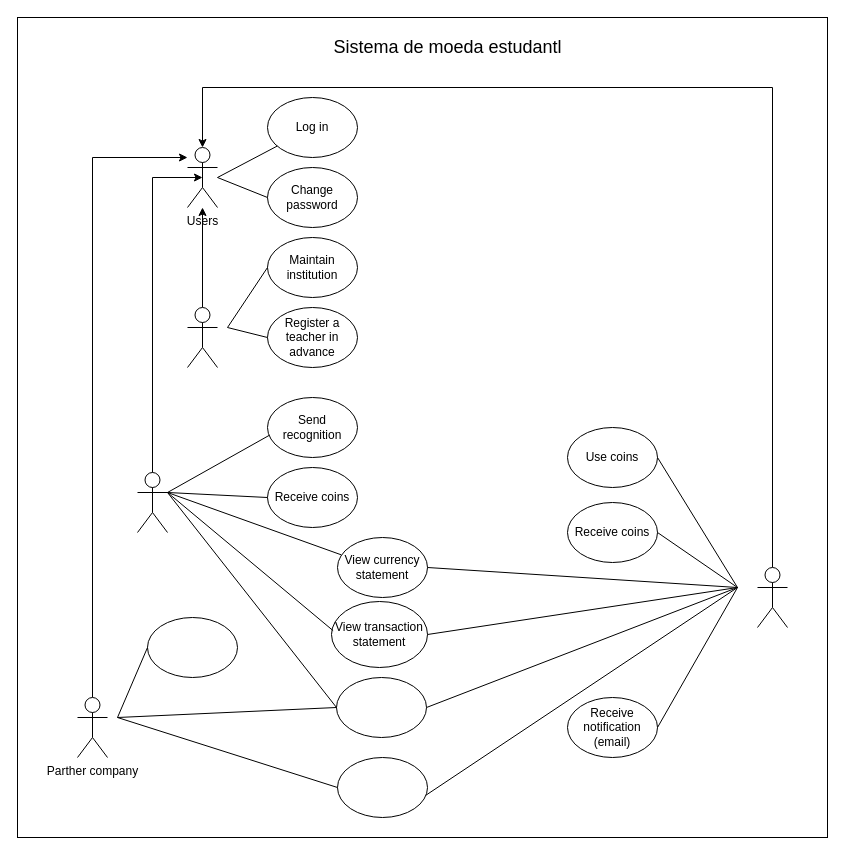
Some shapes in this 845 by 855 pixel diagram are drawn without their labels. Each missing label, with the centre of its shape:
"Institution Education" belongs at [202,337].
"Maintain advantage" belongs at [192,647].
"Receive coupon (email)" belongs at [382,787].
"Register" belongs at [381,707].
"Student" belongs at [772,597].
"Teacher" belongs at [152,502].
